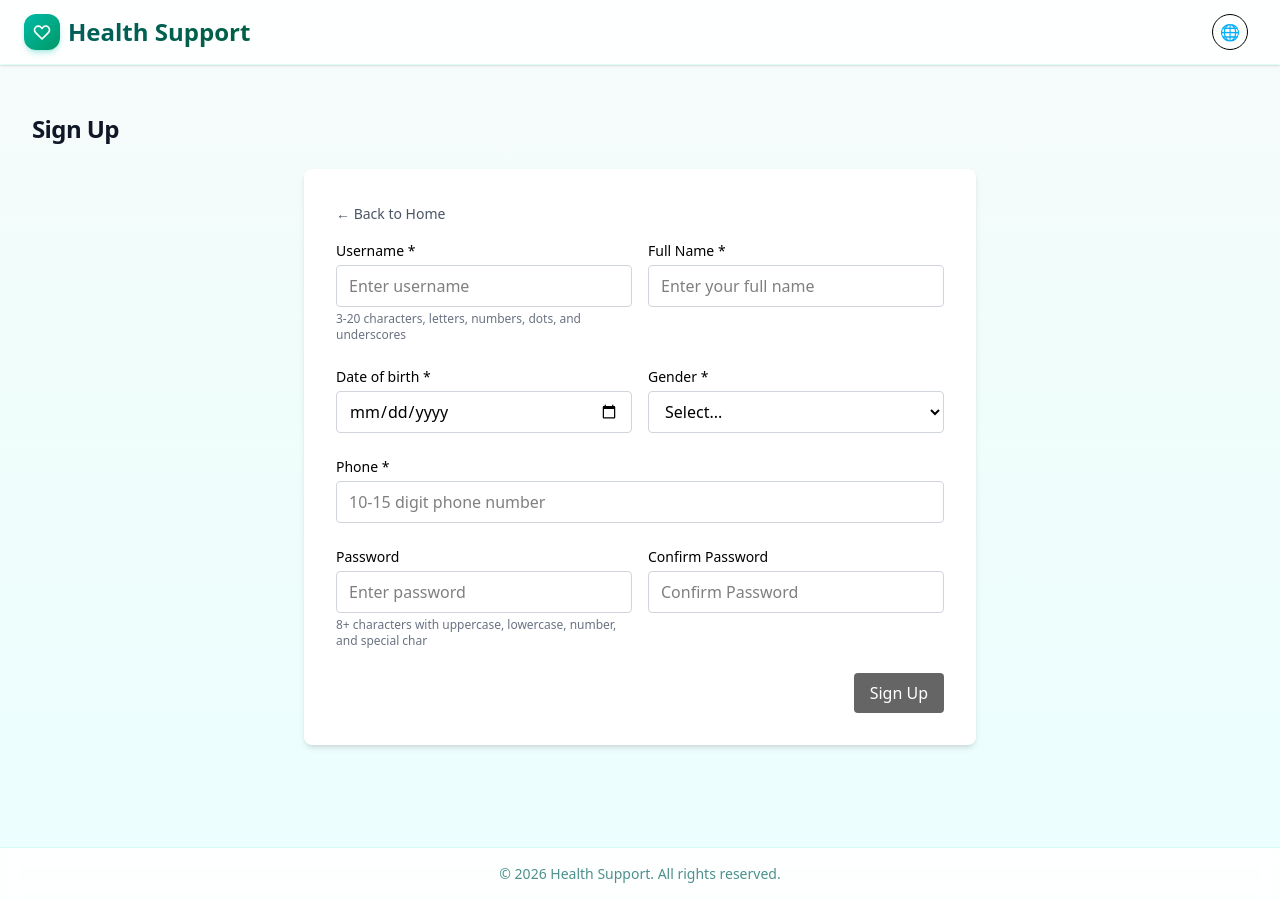
Scenario: Signup › Validation › shows error for mismatched passwords
Type "Password123" into the password field labelled "Password" at (484, 592), box left=336, top=571, right=632, bottom=613
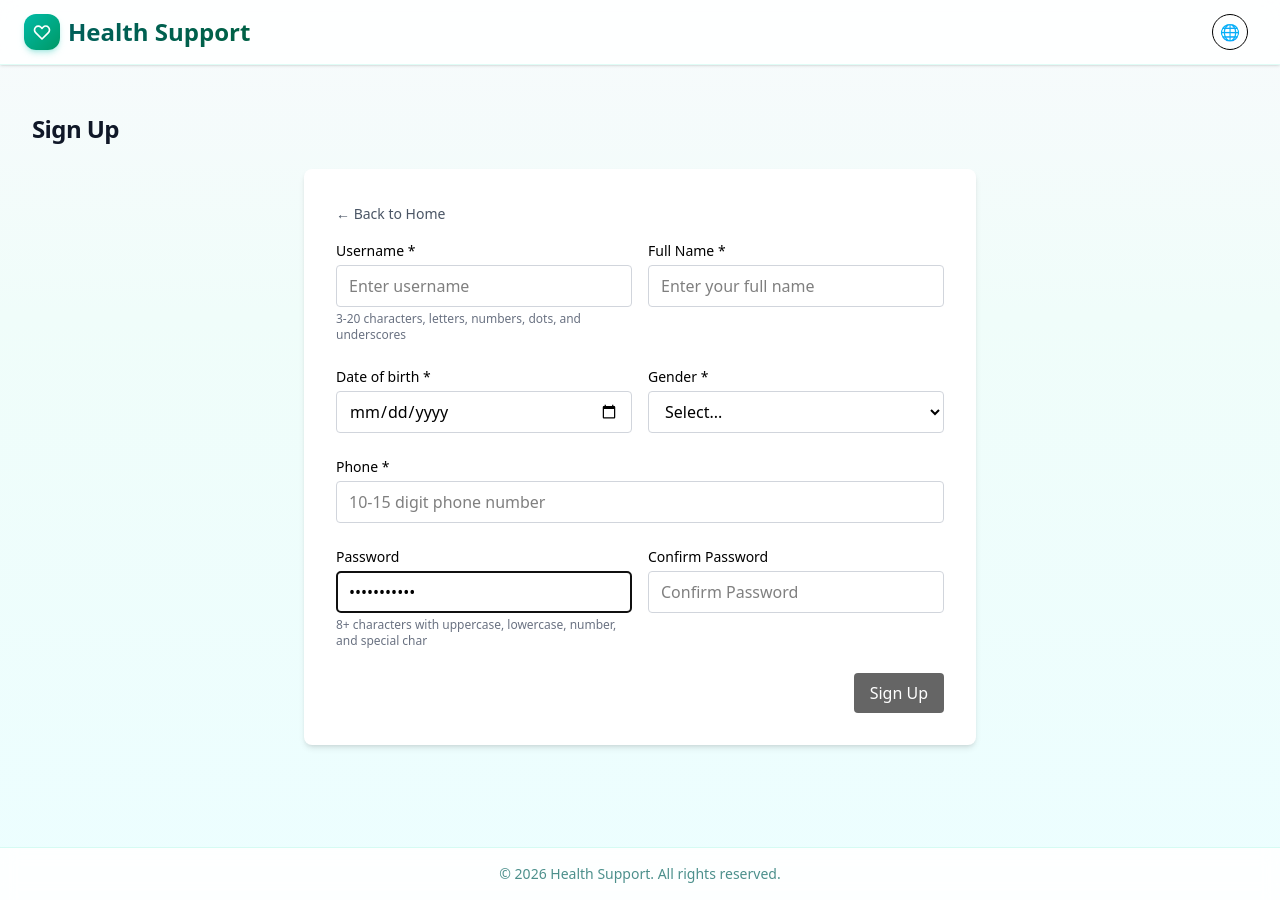
Type "Different123" into the password field labelled "Confirm Password" at (796, 592), box left=648, top=571, right=944, bottom=613
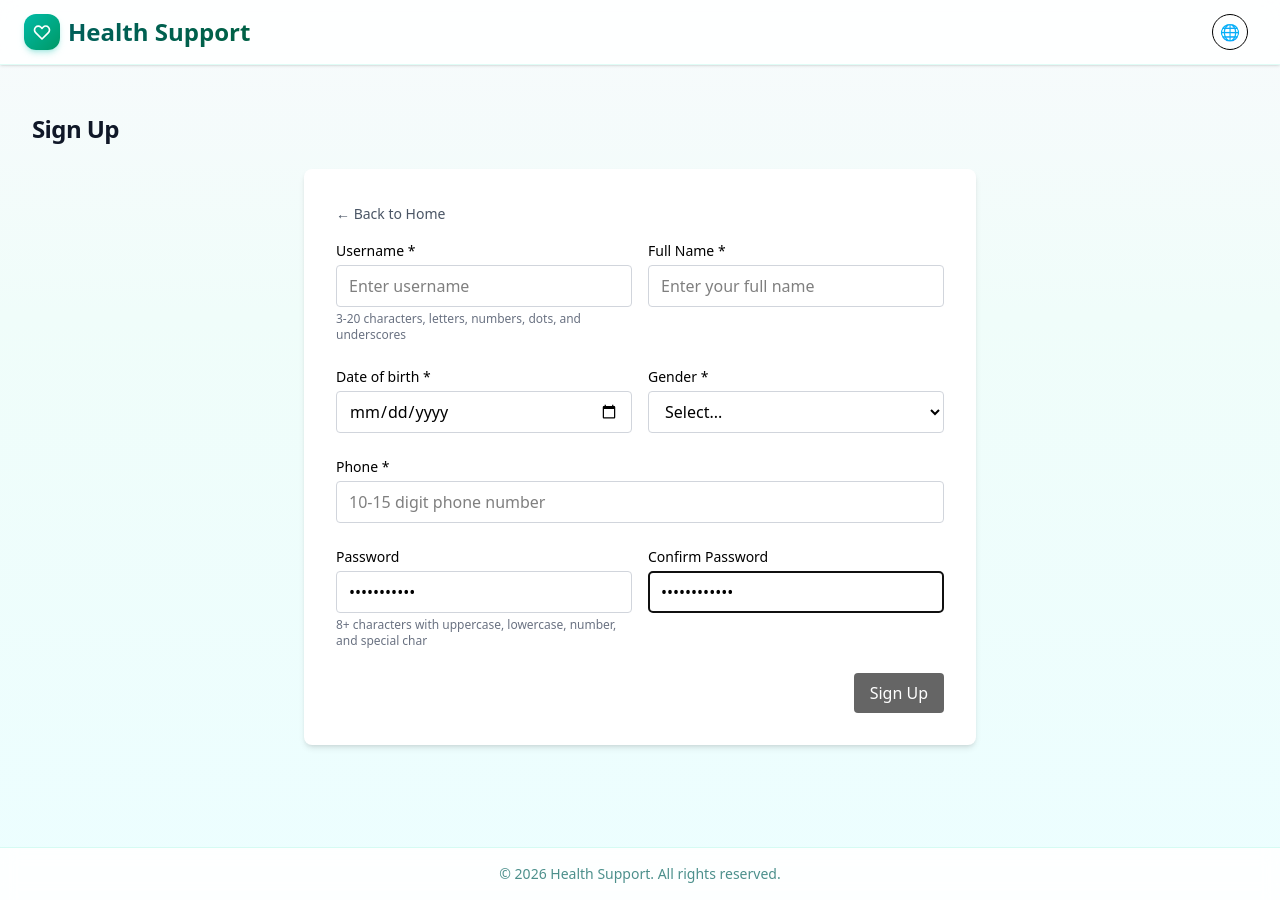
Press Tab
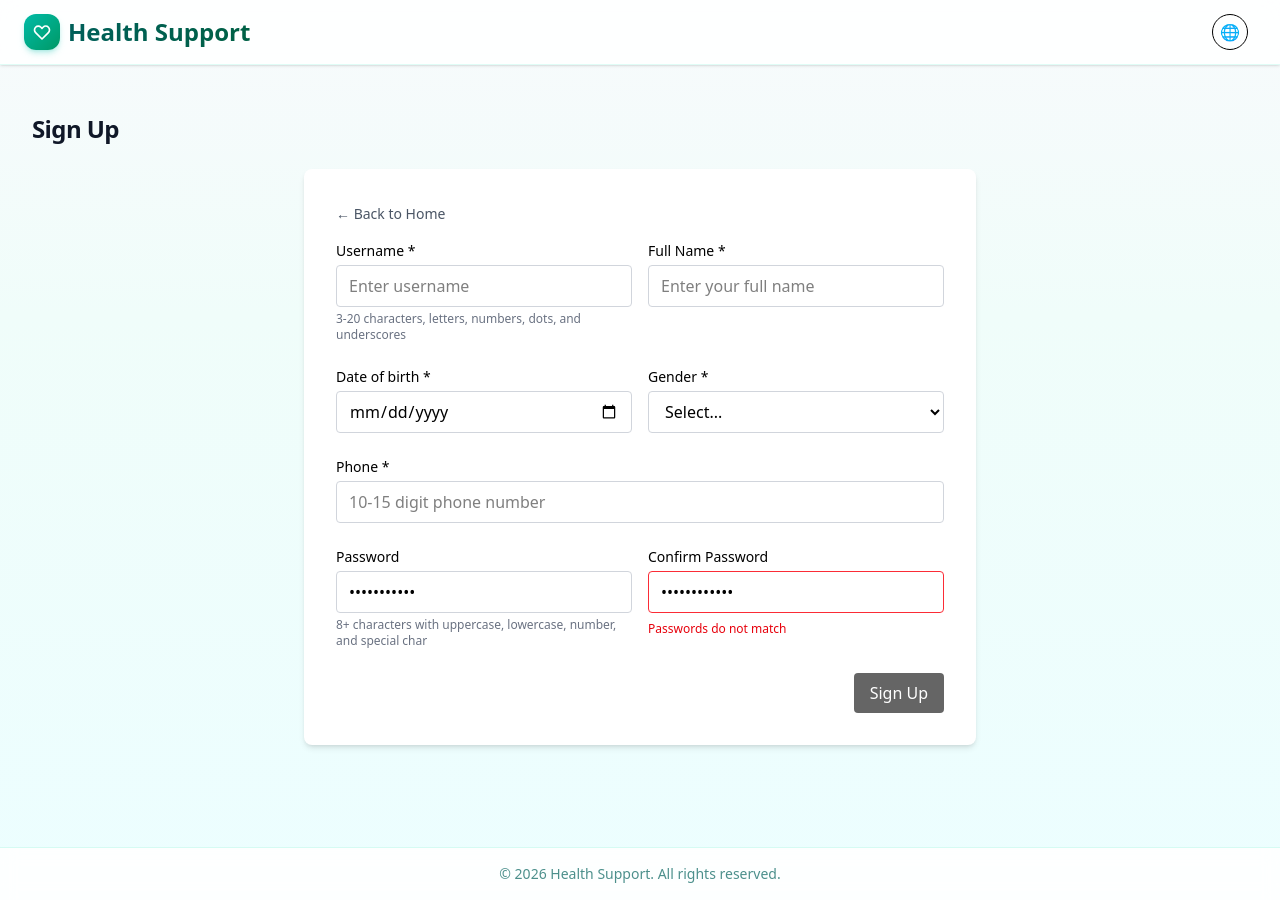
Check: the text "Passwords do not match" is shown, box left=648, top=620, right=786, bottom=637
